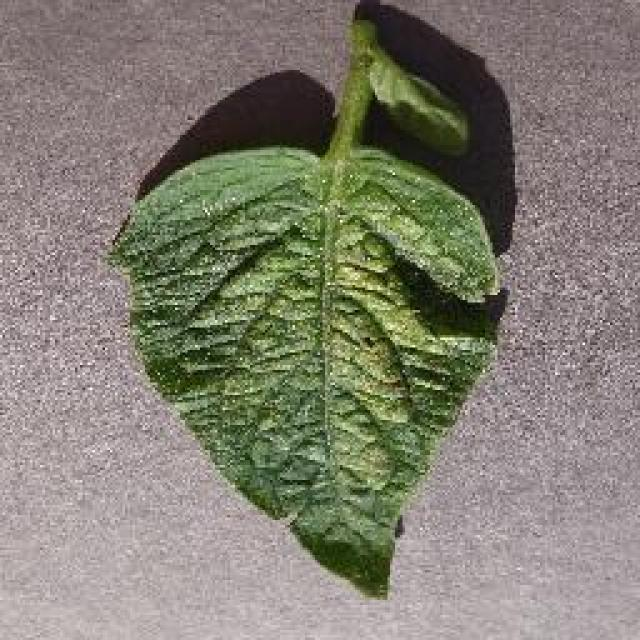Tomato___Spider_mites Two-spotted_spider_mite: (110, 20, 498, 595)
